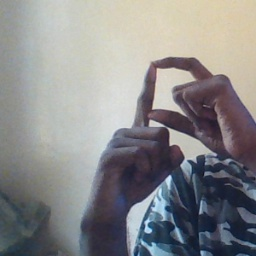D: (118, 48, 231, 154)
